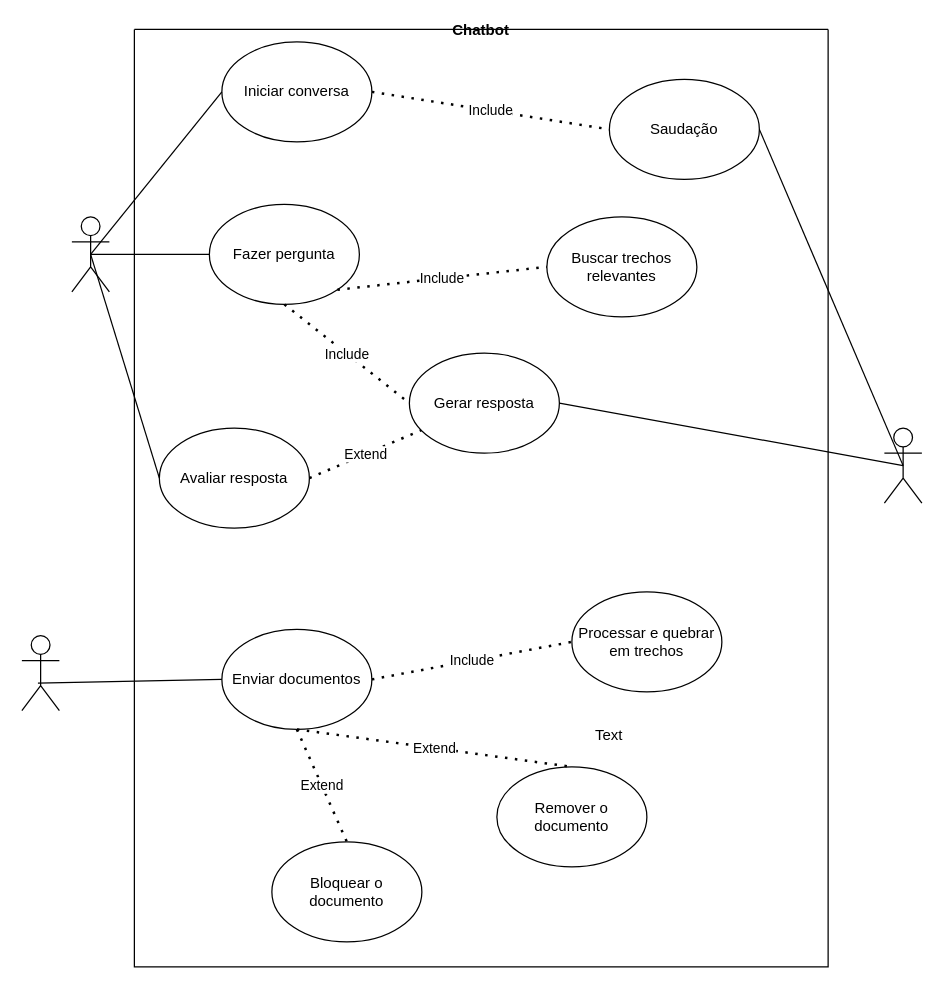
This 944x989 diagram has some shape labels left out. The shapes that lost their labels are listed below. From the top down, each one's box as (x1, y1, x2, y2) in pixels, then its label:
(71, 216, 109, 292): Usuários
(883, 427, 922, 503): IA
(21, 634, 59, 711): Actor
